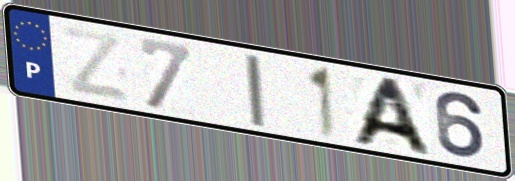1: (305, 64, 339, 143)
6: (432, 90, 490, 161)
7: (136, 35, 197, 112)
A: (346, 75, 437, 159)
I: (240, 52, 269, 130)
Z: (58, 23, 133, 105)
